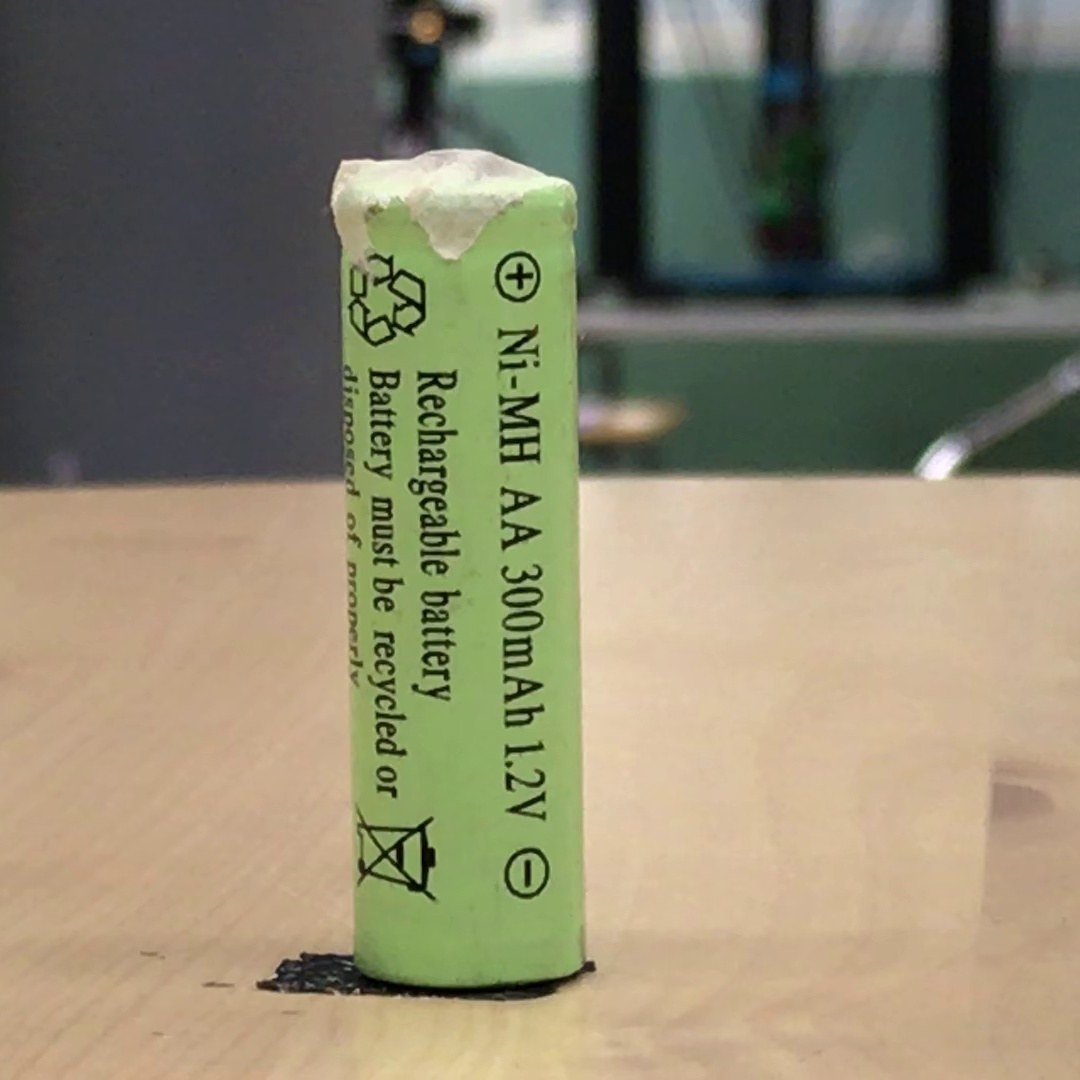keyword: (488, 315, 550, 469), (495, 731, 556, 830)
